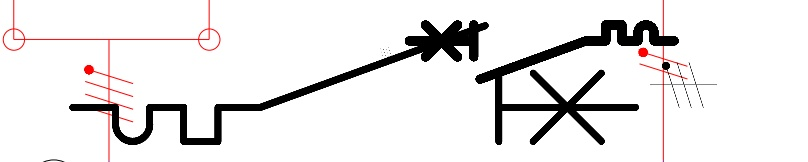interruptor_termomagnetico: (58, 11, 650, 156), (402, 18, 680, 86)
